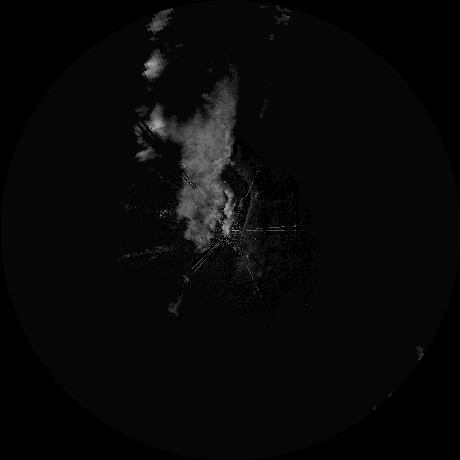frontgust: (242, 185, 257, 231)
